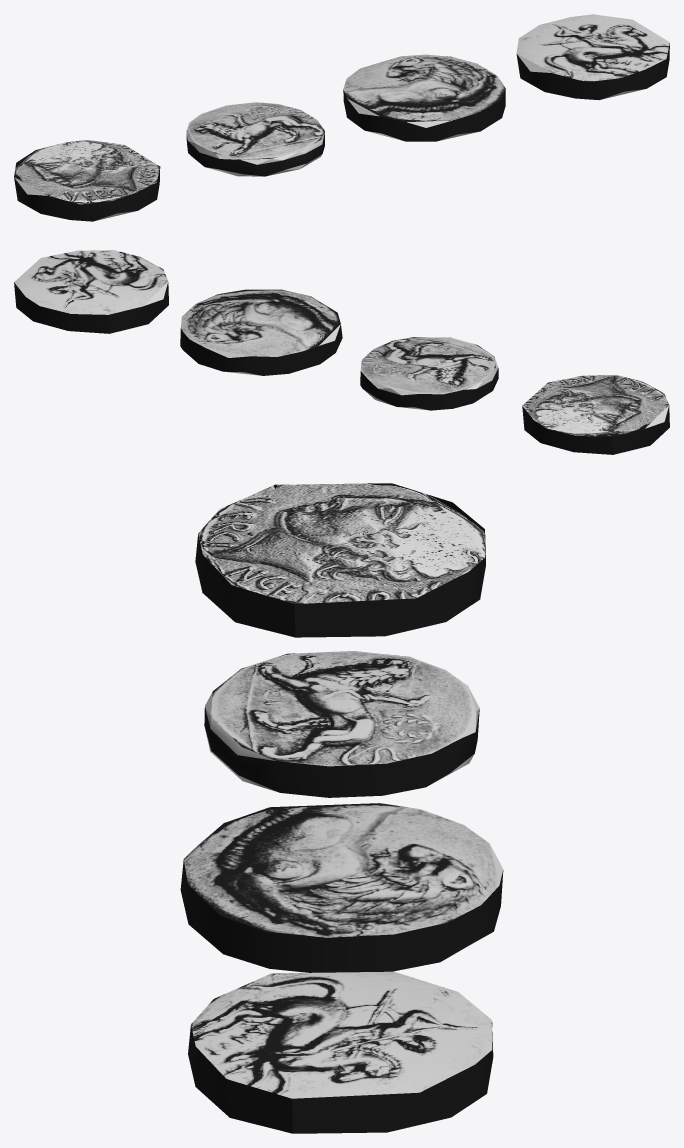
The model's file is Coins.fbx.
3 views of the same model, one above another, from view 1: azimuth 30°, elevation 25°; view 2: azimuth 150°, elevation 25°; view 3: azimuth 270°, elevation 25° (orthographic). The views are drawn at different scales.
Parts seen in each view (by area): view 1: Coin2, Coin3, Coin0, Coin1; view 2: Coin2, Coin3, Coin0, Coin1; view 3: Coin2, Coin3, Coin0, Coin1.
Boxes of the visible parts, x1,y1,x2,y2 form: Coin2: (343, 54, 505, 141); Coin3: (516, 14, 669, 99); Coin0: (14, 140, 160, 221); Coin1: (186, 102, 324, 176); Coin2: (180, 289, 342, 375); Coin3: (14, 250, 168, 333); Coin0: (522, 375, 669, 454); Coin1: (360, 337, 498, 410); Coin2: (180, 803, 503, 972); Coin3: (188, 971, 493, 1133); Coin0: (195, 483, 485, 637); Coin1: (204, 651, 479, 797).
Bounding box in the file's own units: 75.19 × 2.98 × 16.62.
